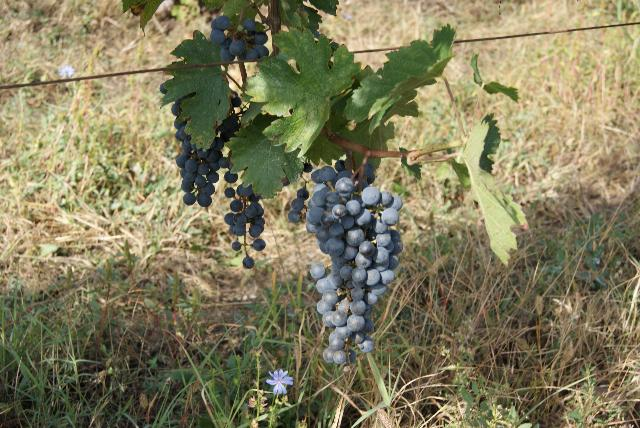grapes: (289, 166, 402, 365), (210, 15, 269, 62)
